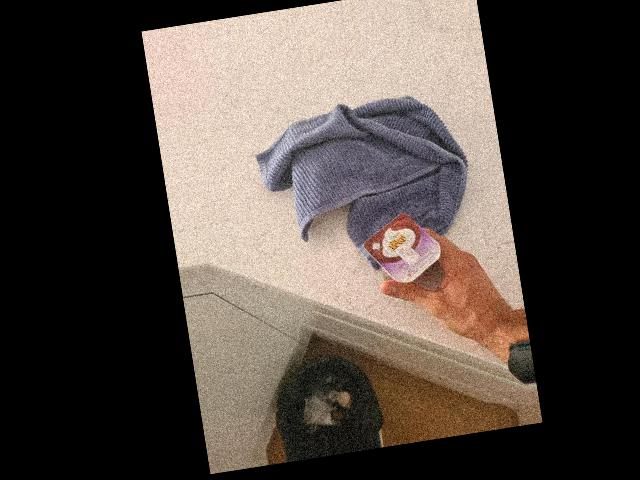milky: (359, 212, 442, 291)
